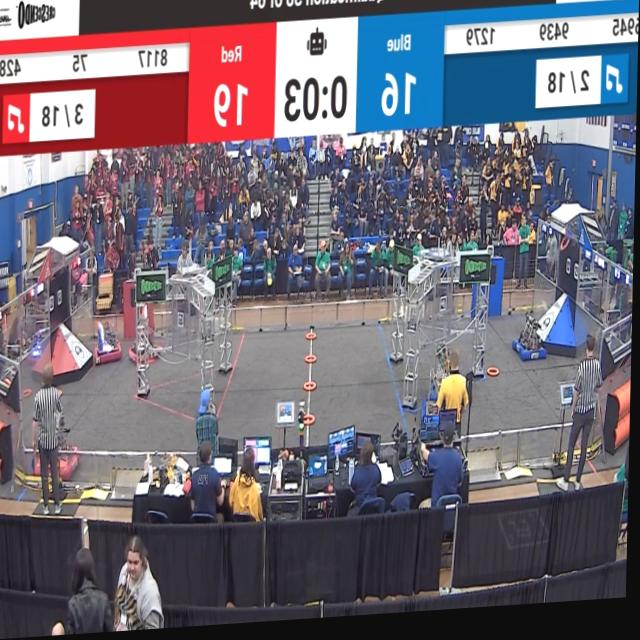Robot: (33, 377, 87, 483), (130, 298, 166, 367), (511, 315, 554, 371), (92, 296, 127, 362), (413, 384, 443, 436), (422, 354, 442, 417)
